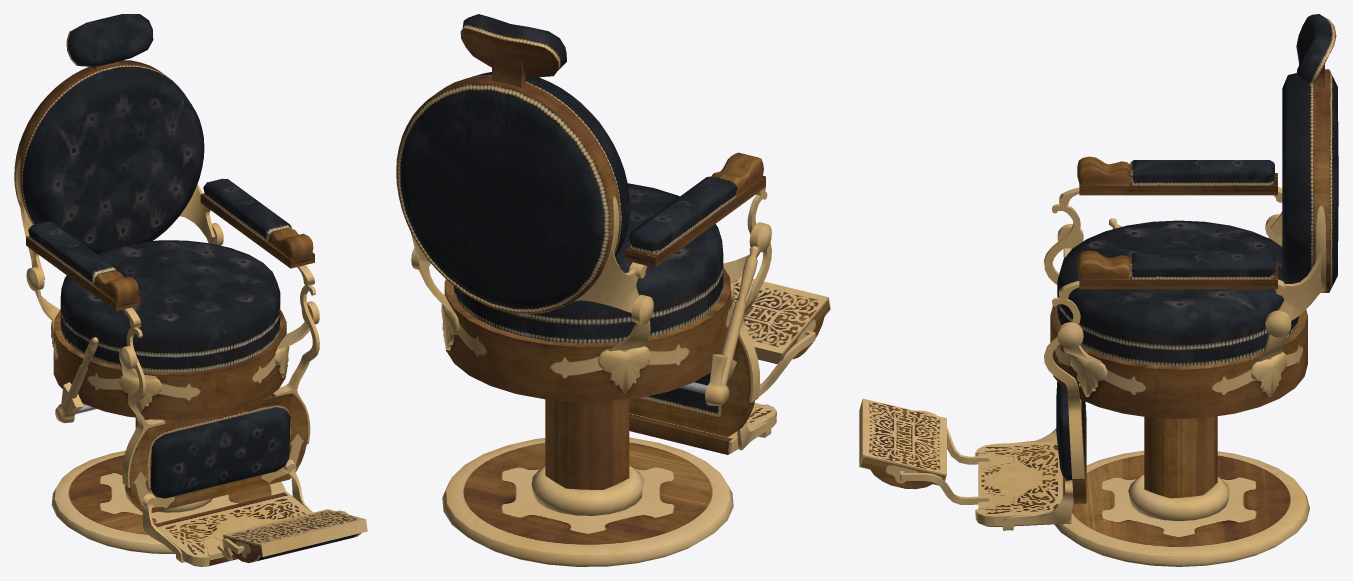
Rendered from BarberShopChair_01.glb.
3 views of the same model, side by side, from view 1: azimuth 30°, elevation 25°; view 2: azimuth 150°, elevation 25°; view 3: azimuth 270°, elevation 25° (orthographic). The views are drawn at different scales.
Visible parts, largest first — view 1: BarberShopChair_01; view 2: BarberShopChair_01; view 3: BarberShopChair_01.
Part boxes in pixels (<box>): BarberShopChair_01: <box>14,14,367,566</box>; BarberShopChair_01: <box>396,14,830,566</box>; BarberShopChair_01: <box>859,14,1338,566</box>.
Size of the model in its own units: 0.7565 by 1.49 by 1.33.
1 material, 1 textured.
